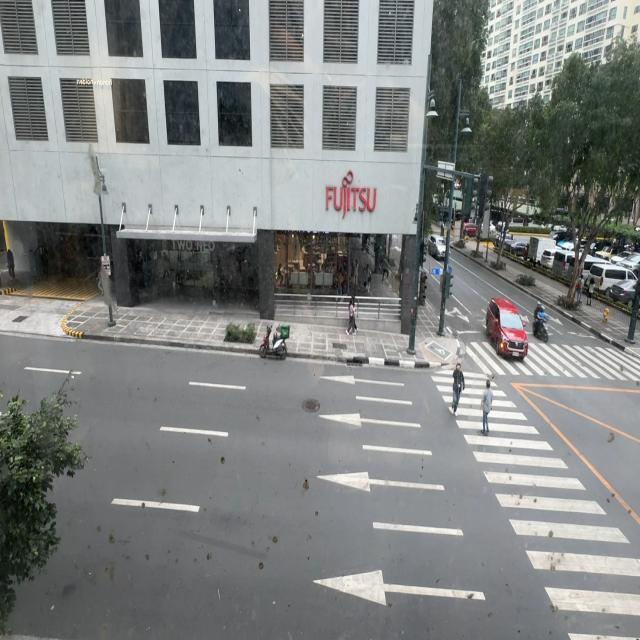crossing: (481, 380, 493, 436), (452, 364, 464, 414)
pedestrain: (347, 296, 358, 335), (585, 274, 593, 306), (576, 278, 584, 306)
